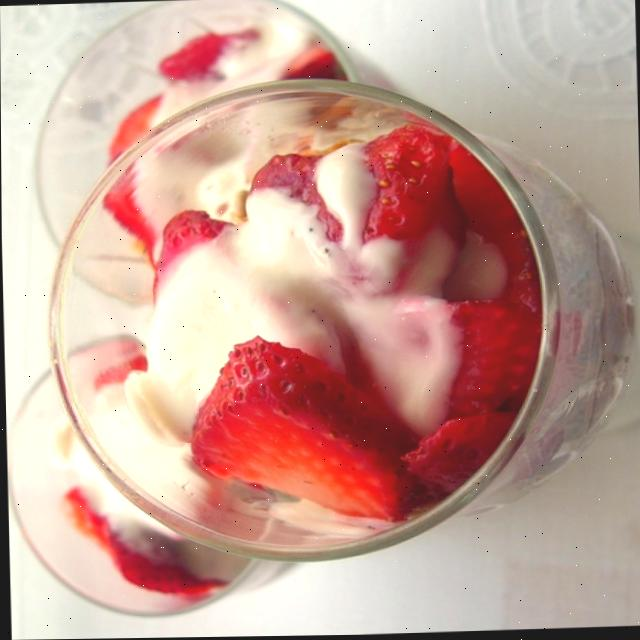蛋糕甜品: (23, 0, 640, 640)
